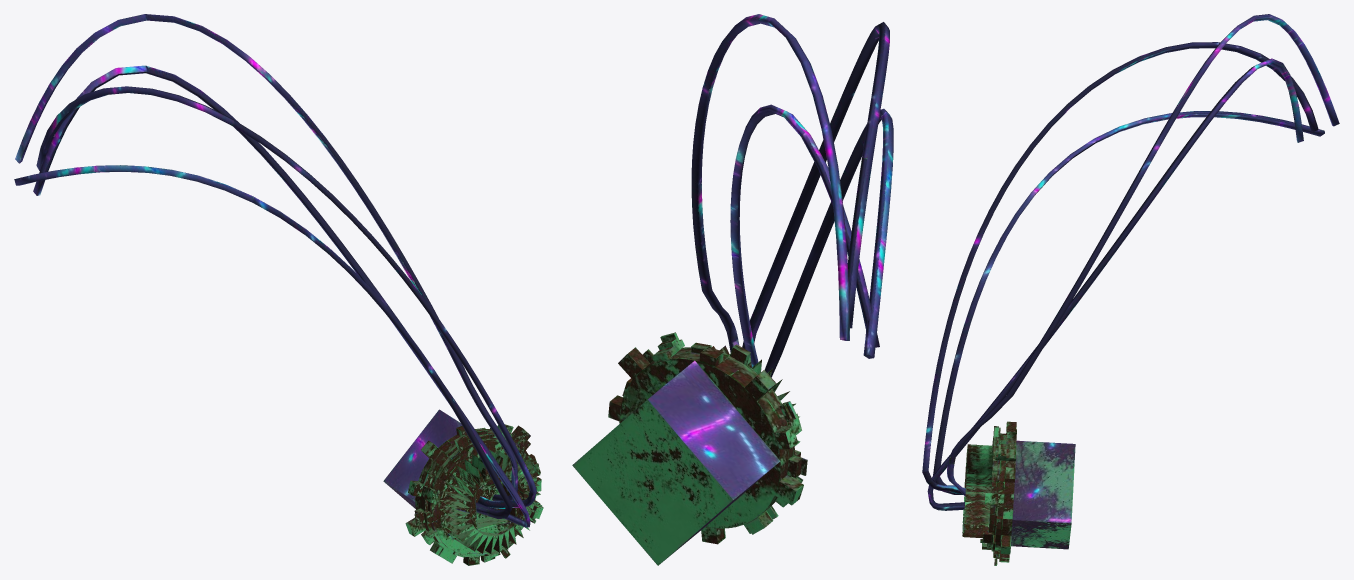
Rendered from EducationHippo.glb.
3 views of the same model, side by side, from view 1: azimuth 30°, elevation 25°; view 2: azimuth 150°, elevation 25°; view 3: azimuth 270°, elevation 25° (orthographic). The views are drawn at different scales.
Visible parts, largest first — view 1: Current, Case, Conclusion, Ethical, Developing_tech, Potential; view 2: Potential, Current, Case, Conclusion, Developing_tech, Ethical; view 3: Potential, Current, Case, Conclusion, Ethical, Developing_tech.
Part boxes in pixels (x1=…): Current: x1=405, y1=424, x2=543, y2=565; Case: x1=15, y1=14, x2=518, y2=501; Conclusion: x1=36, y1=86, x2=536, y2=508; Ethical: x1=33, y1=65, x2=530, y2=527; Developing_tech: x1=14, y1=165, x2=512, y2=518; Potential: x1=383, y1=409, x2=461, y2=534; Potential: x1=572, y1=358, x2=780, y2=565; Current: x1=608, y1=332, x2=807, y2=544; Case: x1=691, y1=14, x2=849, y2=352; Conclusion: x1=742, y1=22, x2=889, y2=349; Developing_tech: x1=764, y1=108, x2=893, y2=377; Ethical: x1=730, y1=104, x2=879, y2=367; Potential: x1=1011, y1=440, x2=1075, y2=549; Current: x1=962, y1=421, x2=1016, y2=565; Case: x1=947, y1=14, x2=1339, y2=496; Conclusion: x1=922, y1=42, x2=1318, y2=494; Ethical: x1=927, y1=58, x2=1303, y2=510; Developing_tech: x1=933, y1=111, x2=1324, y2=494.
Size of the model in its own units: 0.7833 by 1.05 by 0.8774.
Materials: 1 (1 with a texture image).
